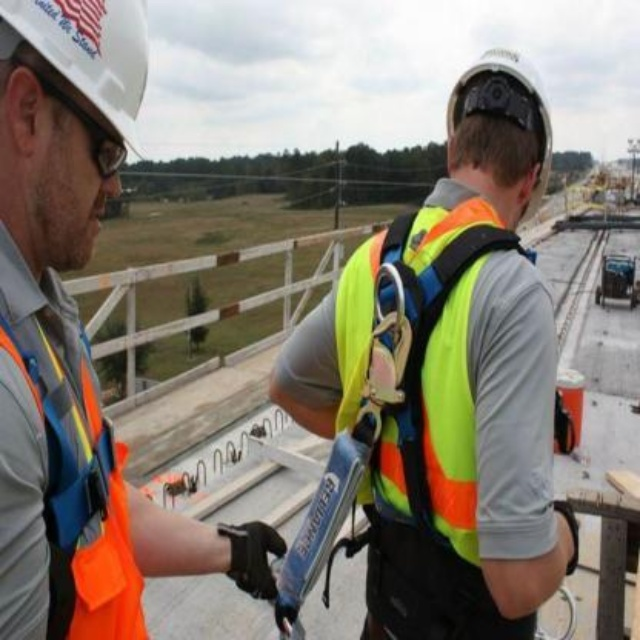Arnes_seguridad: (352, 202, 540, 640)
